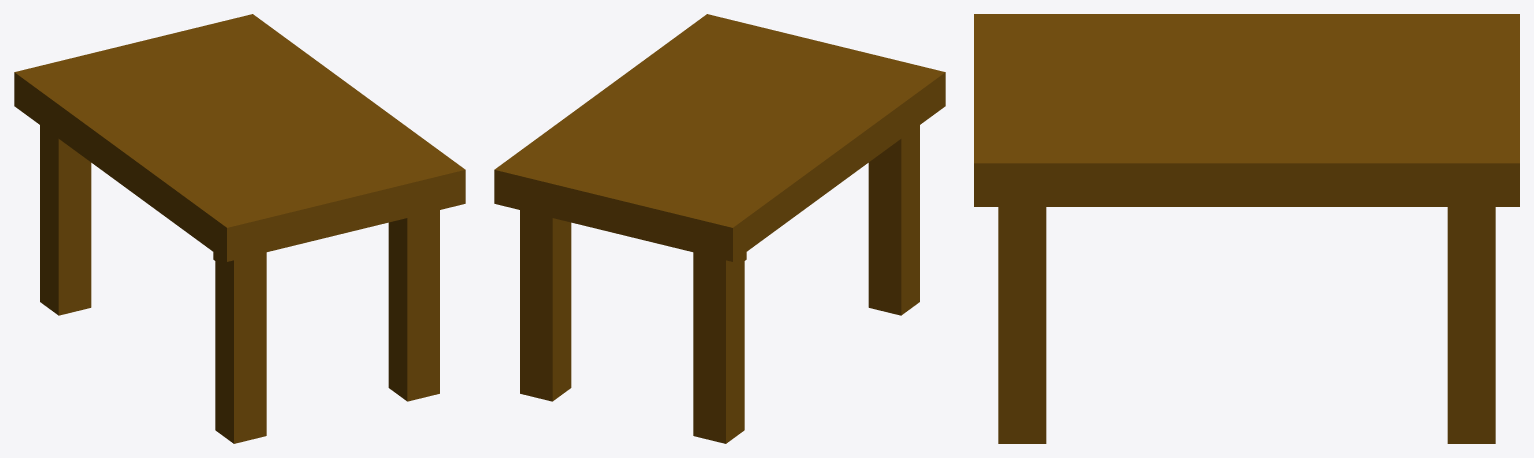
File: diningroom_table.gltf
3 renders of one model, left to right at view 1: azimuth 30°, elevation 25°; view 2: azimuth 150°, elevation 25°; view 3: azimuth 270°, elevation 25°, orthographic. The views are drawn at different scales.
Visible parts, largest first — view 1: mesh (×4); view 2: mesh (×4); view 3: mesh (×3).
Part boxes in pixels (x1,y1,x2,y2): mesh (×4): (14, 14, 465, 443); mesh (×4): (494, 14, 945, 443); mesh (×3): (974, 14, 1519, 443).
Size of the model in its own units: 2.75 by 2.5 by 4.25.
1 material, 1 textured.
